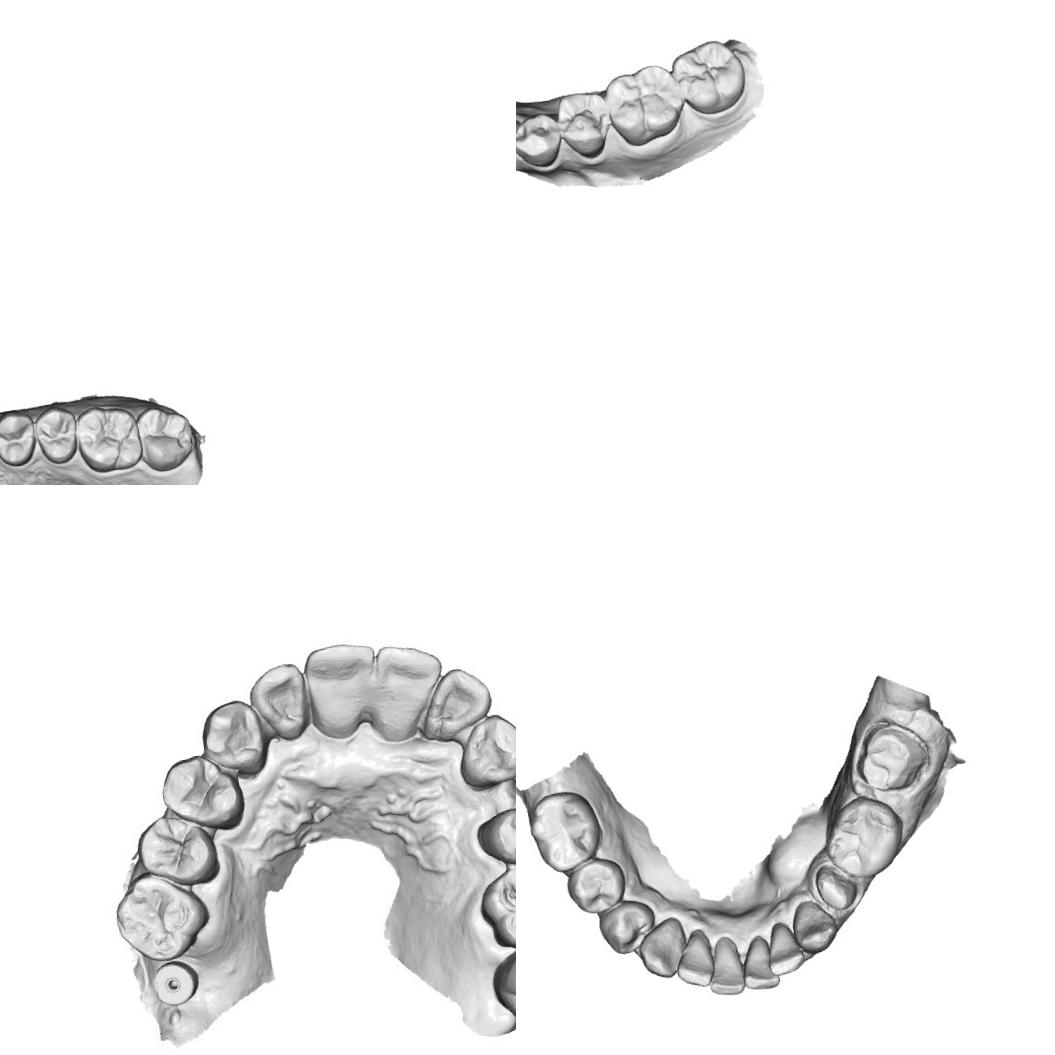canine: (194, 694, 274, 784), (446, 704, 516, 797), (633, 916, 690, 984), (788, 894, 842, 956), (516, 105, 530, 169)
crown: (846, 714, 936, 797), (809, 858, 863, 914)
implant: (144, 956, 207, 1011)
incisor: (296, 636, 385, 732), (362, 635, 452, 729), (417, 660, 499, 744), (244, 658, 314, 748), (668, 926, 720, 992), (701, 933, 748, 1000), (761, 916, 808, 976), (736, 932, 782, 993)
molar: (106, 863, 218, 971), (817, 789, 912, 885), (598, 60, 690, 150), (524, 785, 608, 878), (667, 35, 751, 120), (72, 399, 147, 477), (133, 398, 201, 476), (472, 853, 516, 953), (485, 933, 516, 1032)
premolar: (156, 747, 248, 841), (130, 808, 225, 894), (552, 88, 619, 166), (561, 852, 630, 917), (596, 896, 662, 960), (469, 791, 516, 873), (32, 402, 84, 468), (516, 110, 566, 174), (0, 407, 40, 471)
